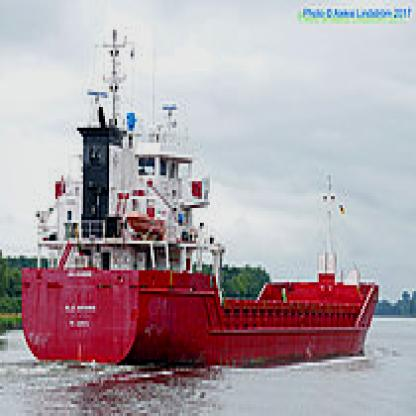Tanker: (18, 27, 382, 374)
